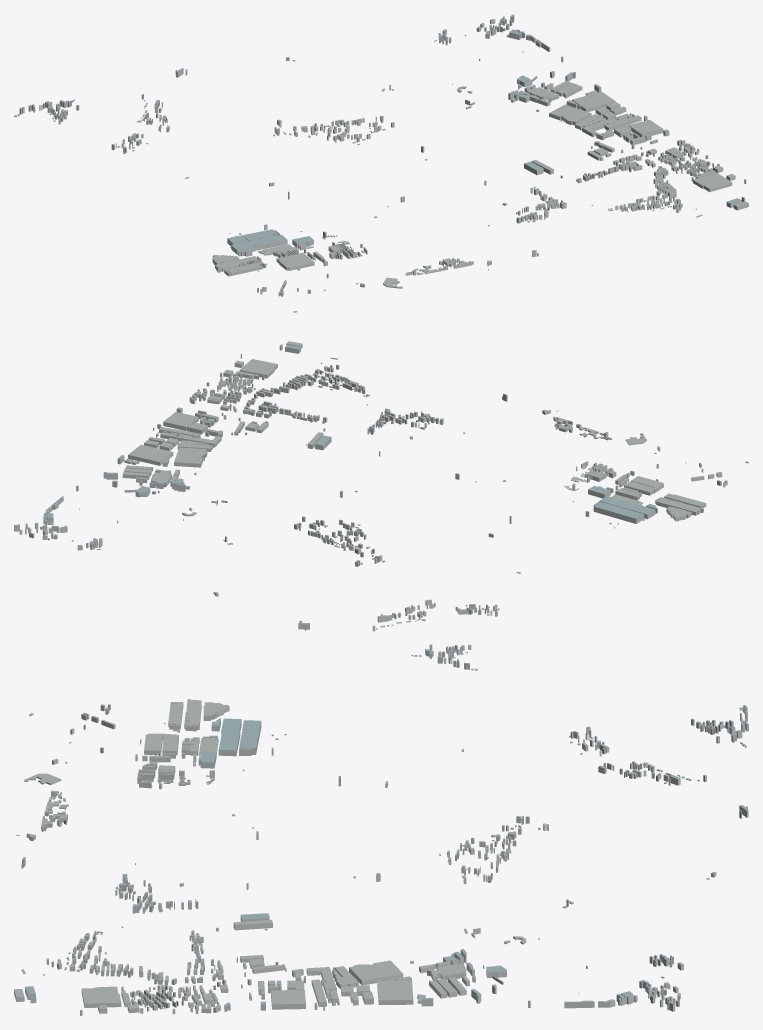
Rendered from far.glb.
The picture shows the model from 3 angles, top to bottom: view 1: azimuth 30°, elevation 25°; view 2: azimuth 150°, elevation 25°; view 3: azimuth 270°, elevation 25°; orthographic projection. The views are drawn at different scales.
Bounding box in the file's own units: 2107 × 29.9 × 2095.
